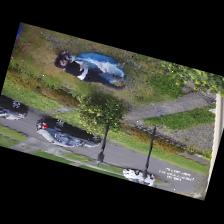person: (54, 52, 124, 90)
